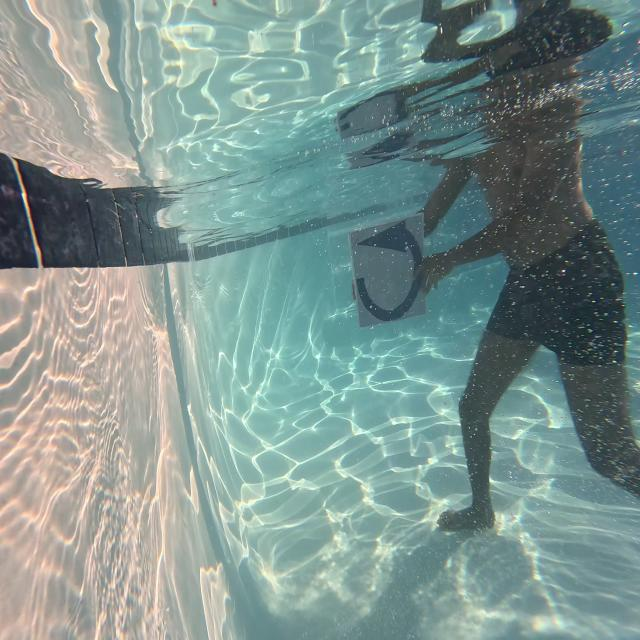blue_side: (351, 210, 423, 326)
